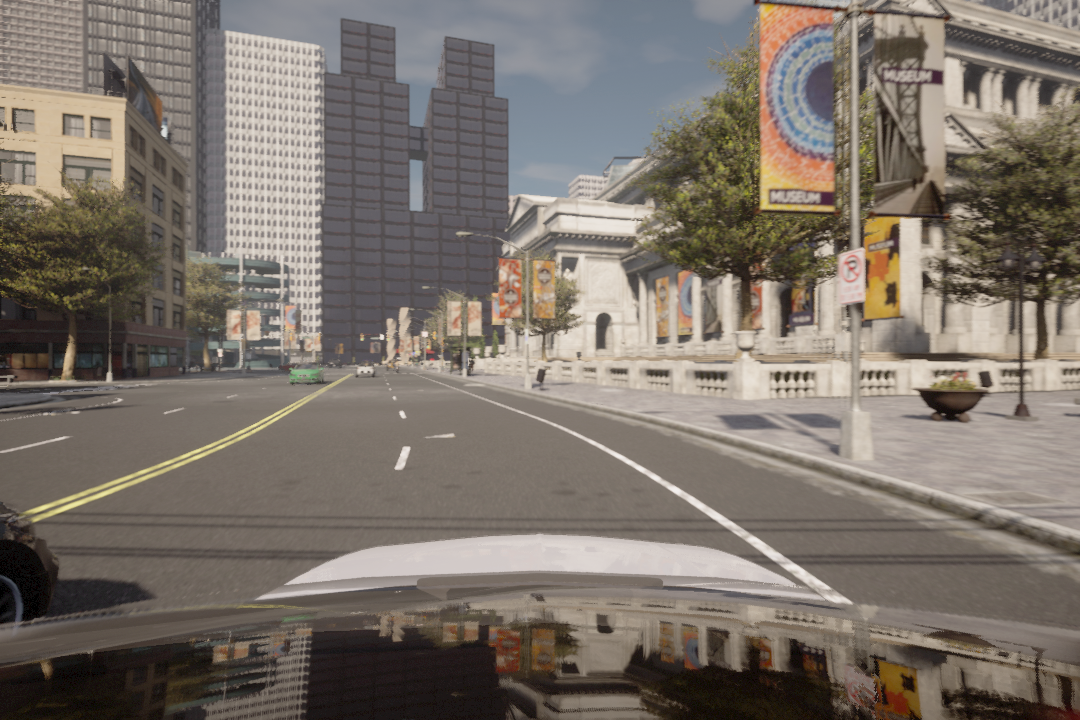TrafficSign: (838, 251, 867, 304)
